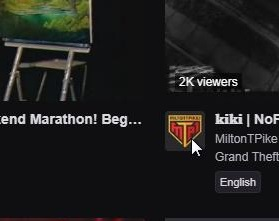cursor: (189, 136, 203, 159)
